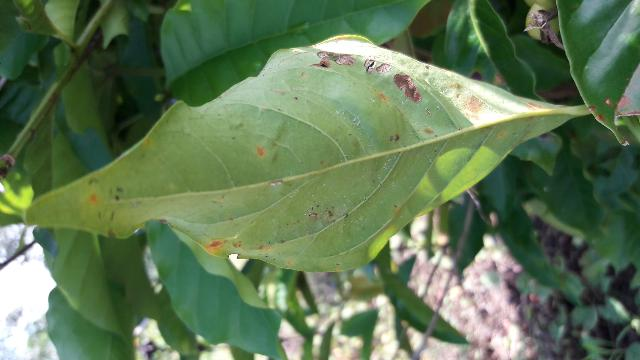red_spider_mite: (31, 36, 582, 271)
